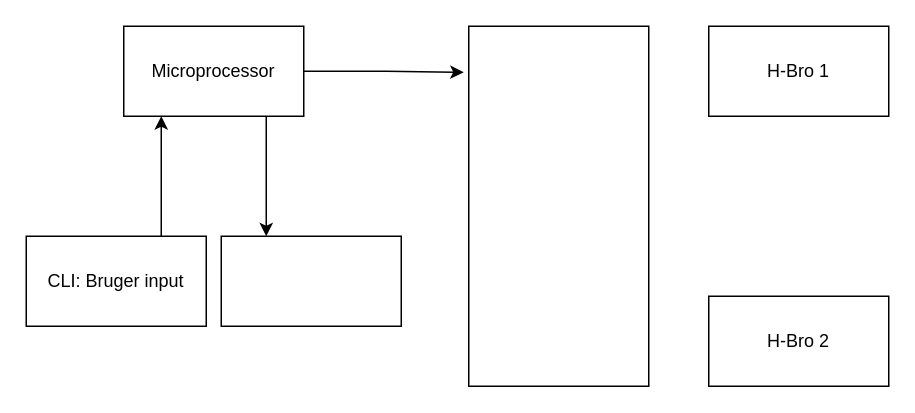
This 915x413 diagram has some shape labels left out. The shapes that lost their labels are listed below. From the top down, each one's box as (x1, y1, x2, y2) in pixels, then its label:
(467, 25, 649, 386): FPGA
(220, 235, 401, 326): CLI: Bruger output
